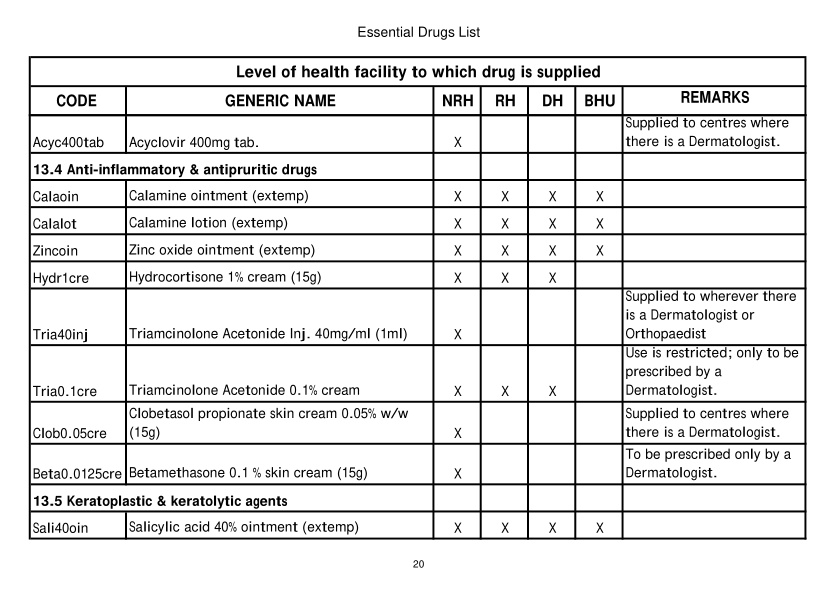merged_cells: (27, 54, 807, 540)
